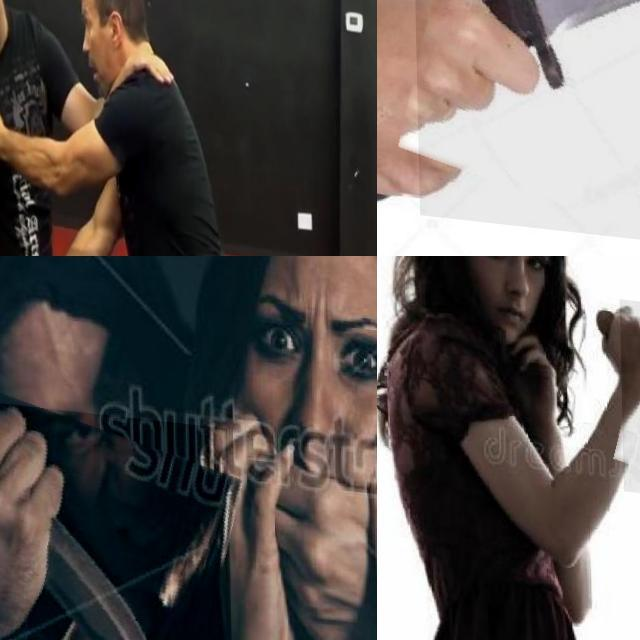-: (0, 398, 230, 640), (410, 0, 640, 241)
